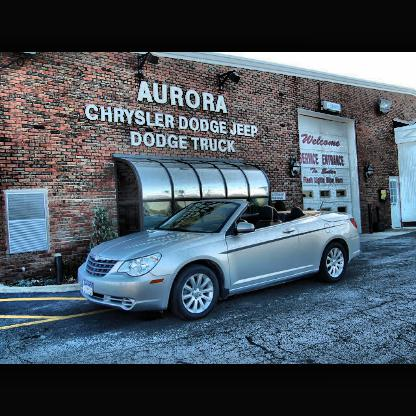Chrysler Sebring Convertible 2010: (79, 201, 361, 321)
